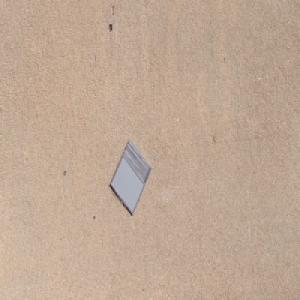PlasticPart: (109, 138, 152, 216)
